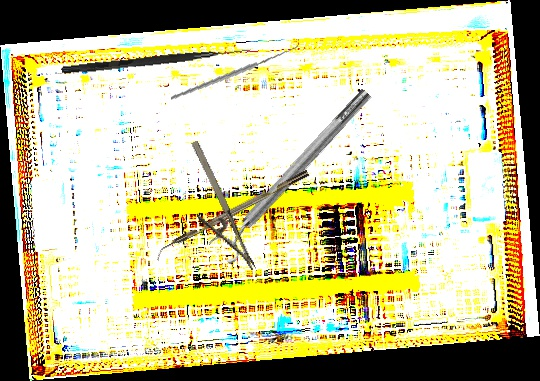Chopper: (151, 169, 314, 263)
Fixation Ring: (205, 81, 382, 267)
Hook Surgical: (170, 22, 300, 117), (61, 43, 252, 77)
Needle Holder: (169, 138, 257, 283)
